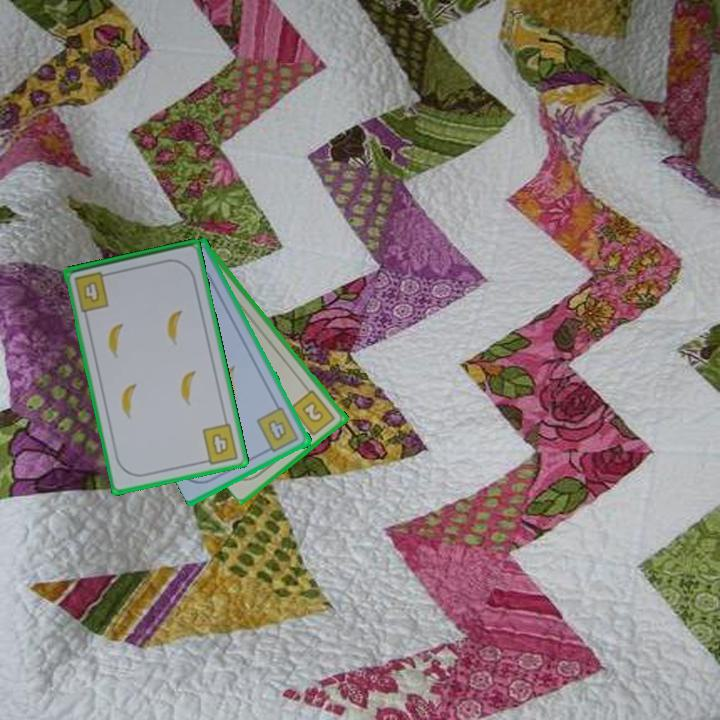2b: (288, 386, 338, 441)
4b: (253, 404, 302, 456), (198, 420, 242, 467), (70, 268, 114, 315)
